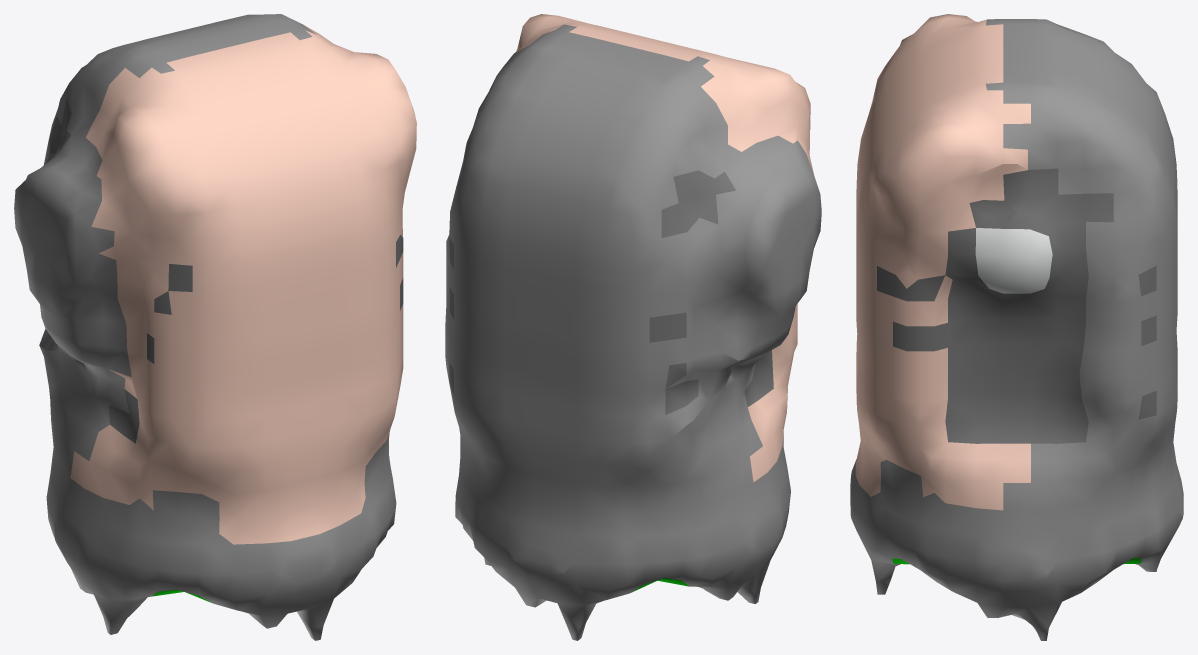
Rendered from base_link_remeshed.dae.
3 renders of one model, left to right at view 1: azimuth 30°, elevation 25°; view 2: azimuth 150°, elevation 25°; view 3: azimuth 270°, elevation 25°, orthographic. The views are drawn at different scales.
Visible parts, largest first — view 1: node0; view 2: node0; view 3: node0.
Part boxes in pixels (<box>): node0: <box>14,14,416,640</box>; node0: <box>445,14,821,640</box>; node0: <box>850,14,1183,640</box>.
Bounding box in the file's own units: 0.0397 × 0.0362 × 0.0635.
